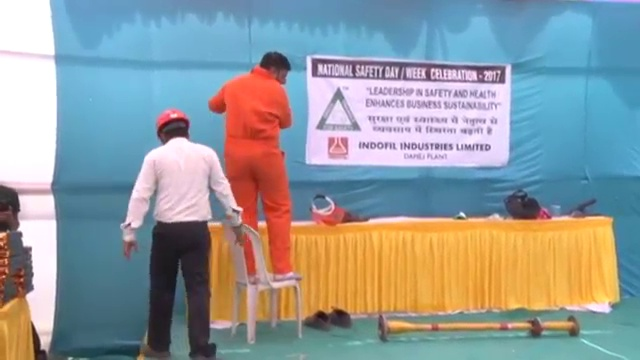helmet: (152, 108, 190, 128)
helmet_off: (257, 50, 290, 87)
helmet_on: (151, 107, 192, 142)
person: (116, 107, 241, 360), (215, 47, 305, 282)
